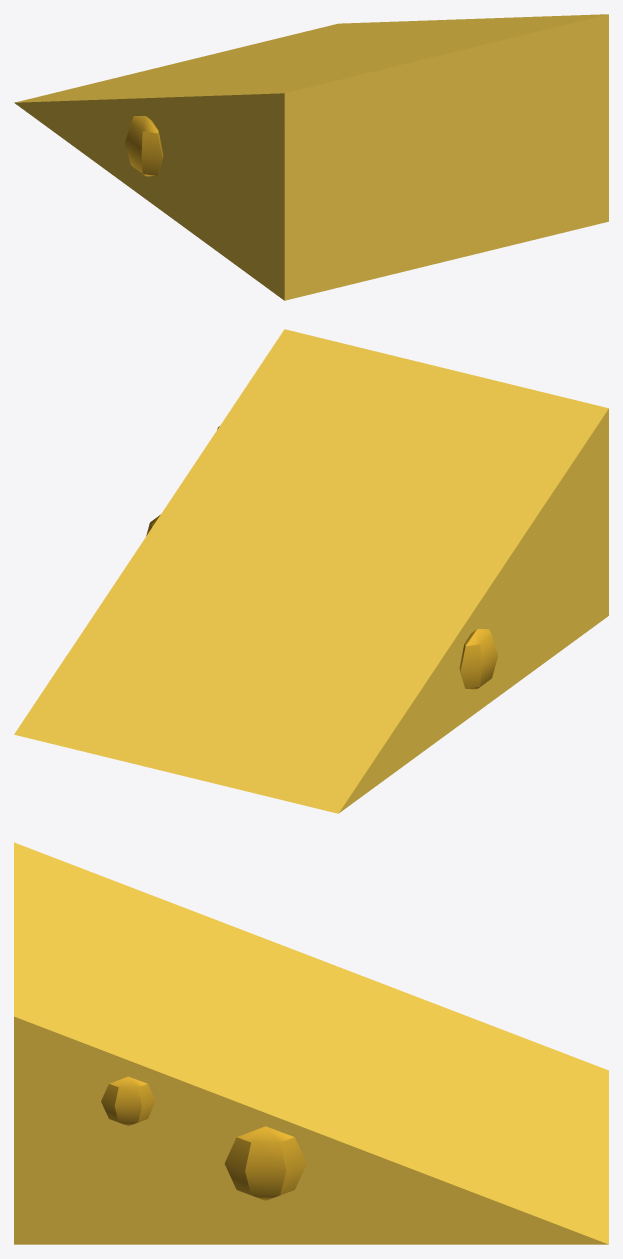
File: Cheese.fbx
3 renders of one model, top to bottom at view 1: azimuth 30°, elevation 25°; view 2: azimuth 150°, elevation 25°; view 3: azimuth 270°, elevation 25°, orthographic. The views are drawn at different scales.
Visible parts, largest first — view 1: Cheese; view 2: Cheese; view 3: Cheese.
Boxes of the visible parts, box(x1,y1,x2,y2) form: Cheese: box(14, 14, 608, 300); Cheese: box(14, 329, 608, 813); Cheese: box(14, 842, 608, 1244).
Size of the model in its own units: 0.9936 by 0.57 by 1.3.
Materials: 1 (1 with a texture image).
